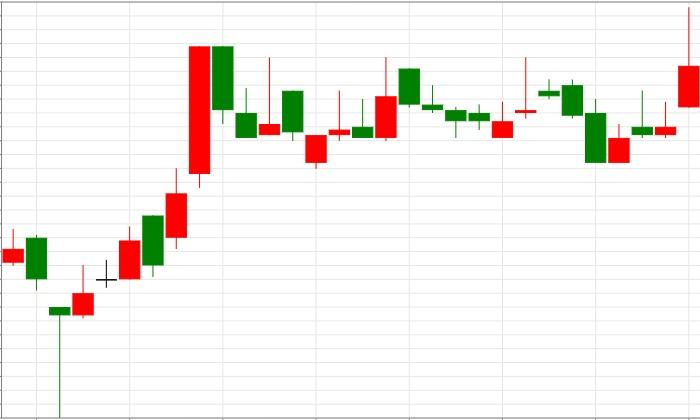three_black_crows_fall: (304, 57, 467, 169)
